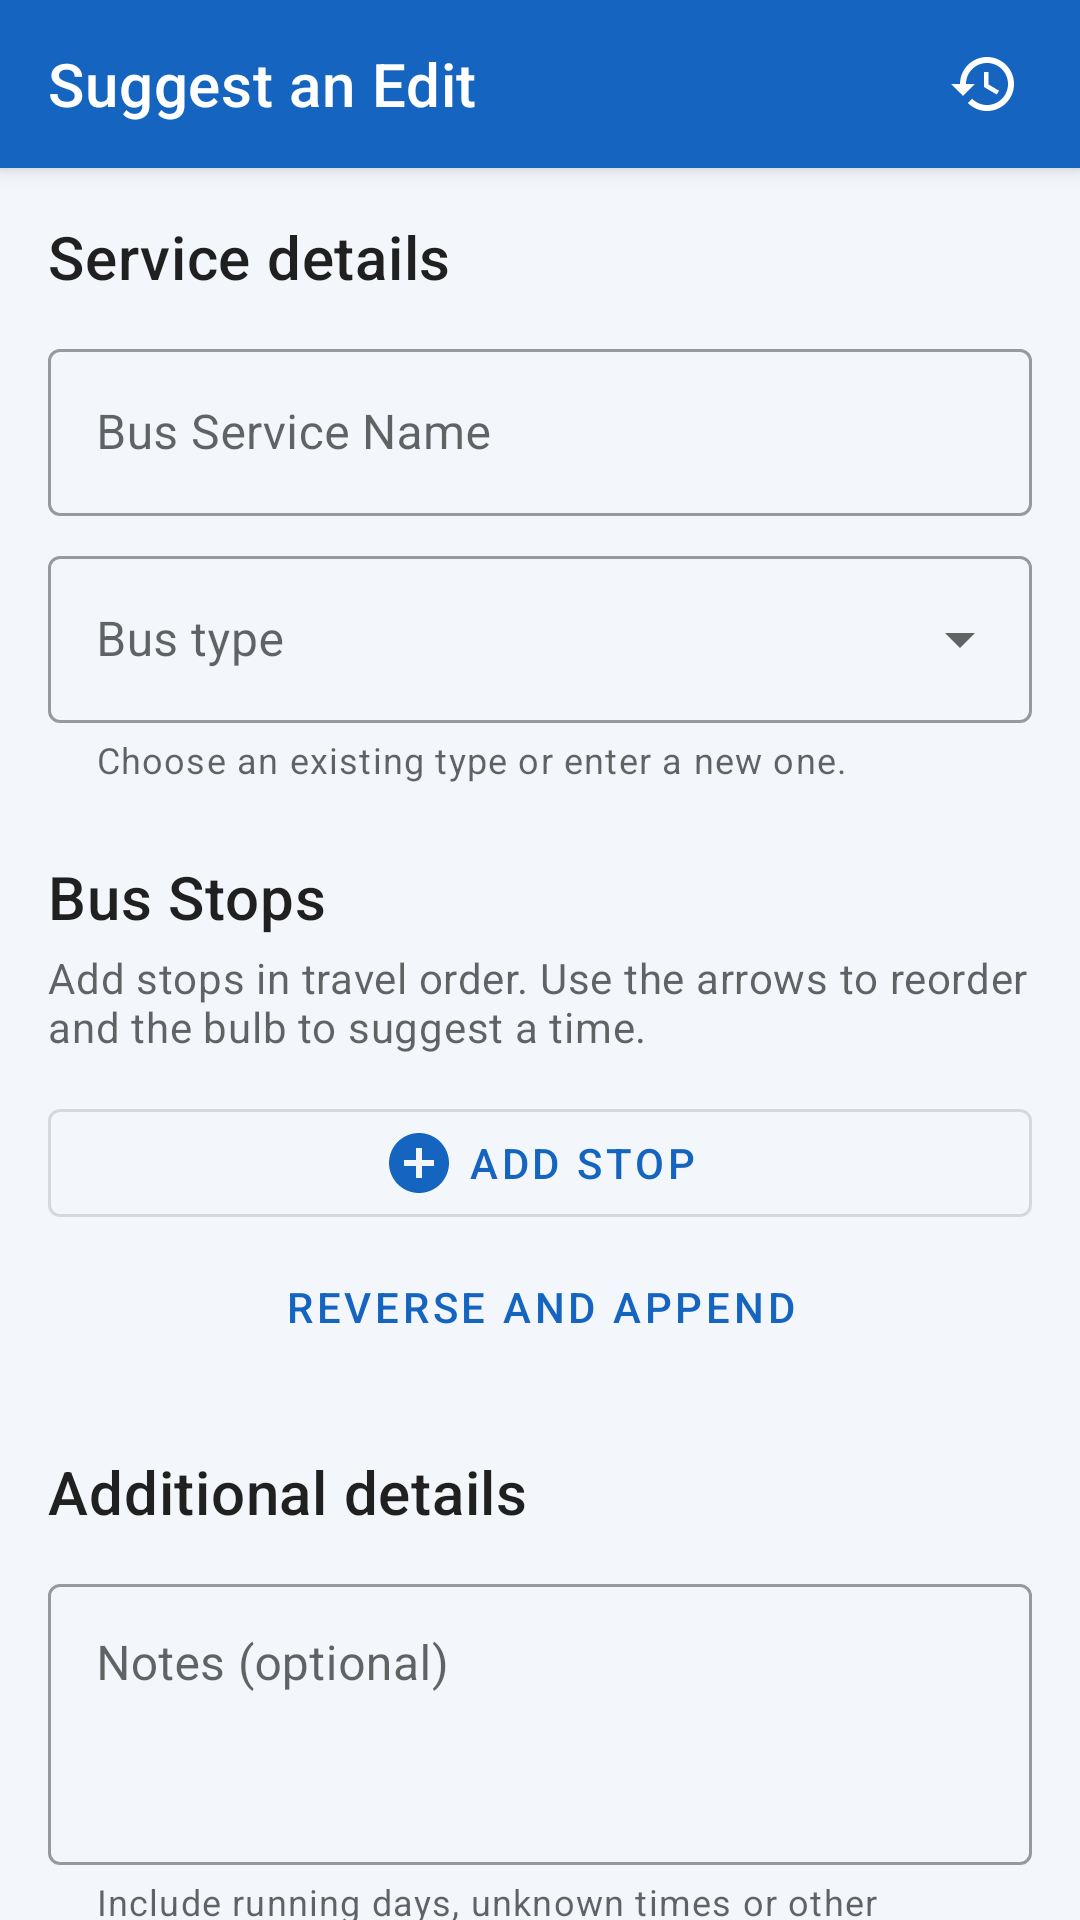

Where to tap for icons on this 1080 × 1920 app screen, as (x=x, y=y):
History: (x=982, y=84)
